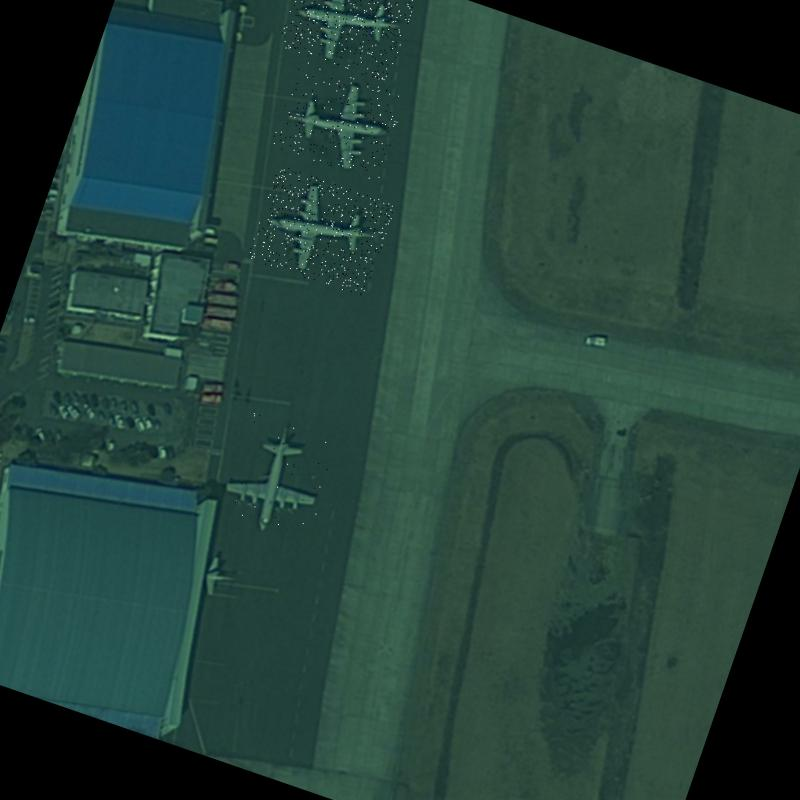A9: (247, 165, 396, 299), (212, 407, 342, 551), (271, 60, 407, 183), (277, 0, 418, 84)
